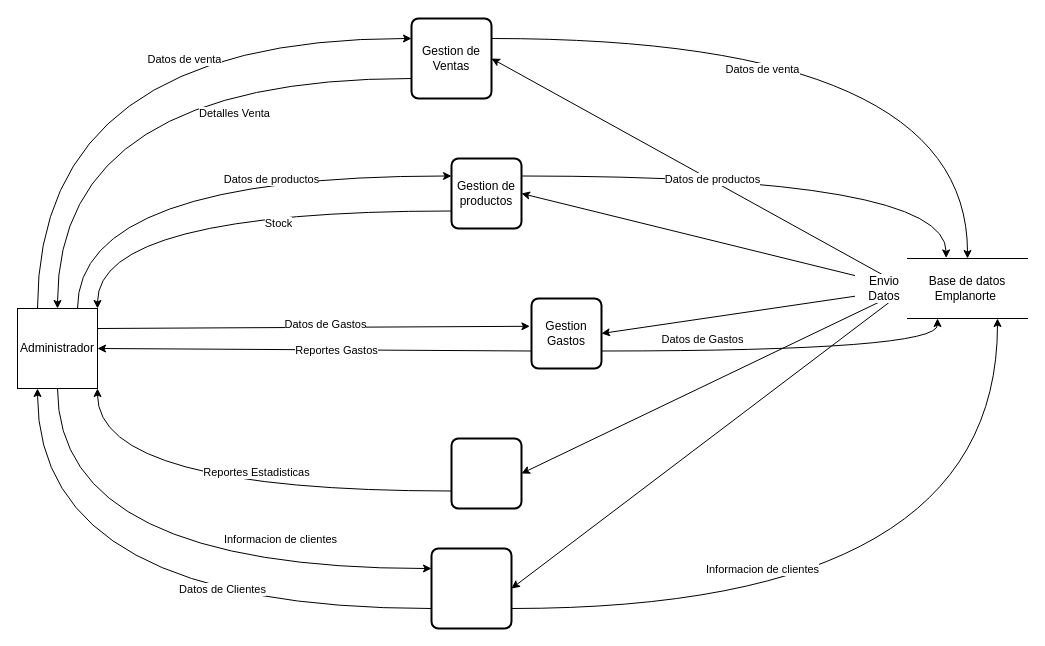
This 1045x646 diagram has some shape labels left out. The shapes that lost their labels are listed below. From the top down, each one's box as (x1, y1, x2, y2) in pixels, then its label:
(450, 437, 522, 509): Gestion Financiera
(430, 547, 512, 629): Gestion de Clientes
